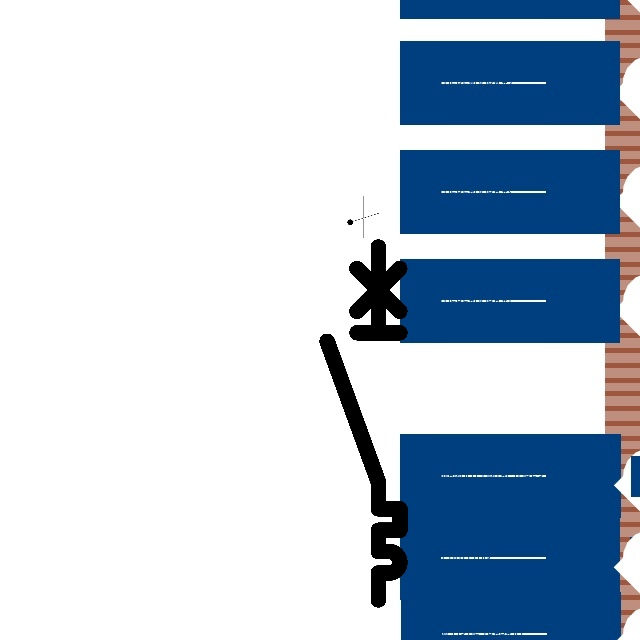interruptor_termomagnetico: (318, 238, 409, 609)
